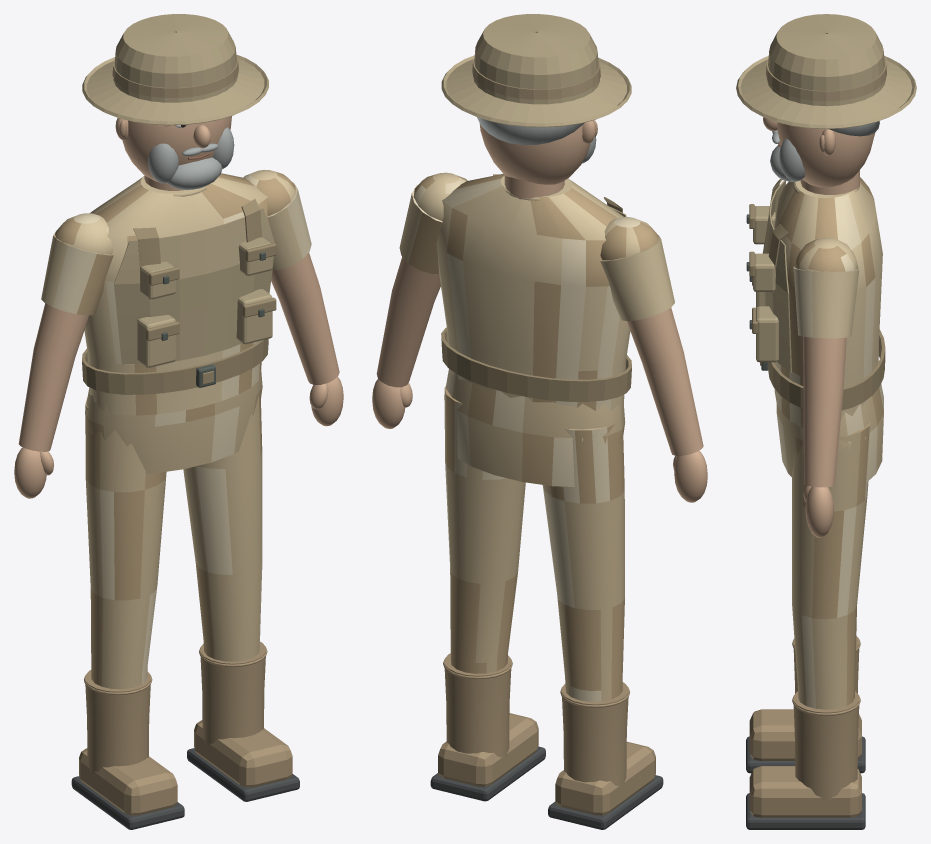
The model's file is soldier_desert_3.glb.
The picture shows the model from 3 angles, left to right: view 1: azimuth 30°, elevation 25°; view 2: azimuth 150°, elevation 25°; view 3: azimuth 270°, elevation 25°; orthographic projection.
Visible parts, largest first — view 1: Desert_Soldier_3_Trouser_Leg, Desert_Soldier_3_Trouser_Leg.001, Desert_Soldier_3_Torso_And_Main_Clothes, Desert_Soldier_3_Fitted_Field_Vest, Desert_Soldier_3_Connected_Hip_Garment, Desert_Soldier_3_Desert_Boonie_Crown, Desert_Soldier_3_Desert_Boonie_Brim, Desert_Soldier_3_Arm_Skin, Desert_Soldier_3_High_Boot_Shaft, Desert_Soldier_3_High_Boot_Shaft.001, Desert_Soldier_3_Arm_Skin.001, Desert_Soldier_3_Shoe_Upper (+20 smaller); view 2: Desert_Soldier_3_Torso_And_Main_Clothes, Desert_Soldier_3_Trouser_Leg, Desert_Soldier_3_Trouser_Leg.001, Desert_Soldier_3_Connected_Hip_Garment, Desert_Soldier_3_Desert_Boonie_Crown, Desert_Soldier_3_Desert_Boonie_Brim, Desert_Soldier_3_Arm_Skin, Desert_Soldier_3_High_Boot_Shaft, Desert_Soldier_3_High_Boot_Shaft.001, Desert_Soldier_3_Arm_Skin.001, Desert_Soldier_3_Waist_Belt, Desert_Soldier_3_Short_Sleeve (+13 smaller); view 3: Desert_Soldier_3_Trouser_Leg.001, Desert_Soldier_3_Torso_And_Main_Clothes, Desert_Soldier_3_Desert_Boonie_Crown, Desert_Soldier_3_Desert_Boonie_Brim, Desert_Soldier_3_Arm_Skin.001, Desert_Soldier_3_High_Boot_Shaft.001, Desert_Soldier_3_Shoe_Upper.001, Desert_Soldier_3_Short_Sleeve.001, Desert_Soldier_3_Head, Desert_Soldier_3_Connected_Hip_Garment, Desert_Soldier_3_Shoe_Upper, Desert_Soldier_3_Fitted_Field_Vest (+13 smaller).
Boxes of the visible parts, left/top/right/bottom form: Desert_Soldier_3_Trouser_Leg: left=85, top=397, right=166, bottom=689; Desert_Soldier_3_Trouser_Leg.001: left=183, top=395, right=262, bottom=661; Desert_Soldier_3_Torso_And_Main_Clothes: left=84, top=173, right=272, bottom=415; Desert_Soldier_3_Fitted_Field_Vest: left=114, top=208, right=274, bottom=364; Desert_Soldier_3_Connected_Hip_Garment: left=85, top=369, right=262, bottom=473; Desert_Soldier_3_Desert_Boonie_Crown: left=113, top=14, right=237, bottom=102; Desert_Soldier_3_Desert_Boonie_Brim: left=82, top=54, right=268, bottom=125; Desert_Soldier_3_Arm_Skin: left=18, top=303, right=89, bottom=451; Desert_Soldier_3_High_Boot_Shaft: left=85, top=670, right=150, bottom=773; Desert_Soldier_3_High_Boot_Shaft.001: left=200, top=641, right=265, bottom=745; Desert_Soldier_3_Arm_Skin.001: left=271, top=253, right=339, bottom=384; Desert_Soldier_3_Shoe_Upper: left=79, top=748, right=177, bottom=815; Desert_Soldier_3_Torso_And_Main_Clothes: left=436, top=173, right=630, bottom=411; Desert_Soldier_3_Trouser_Leg: left=542, top=424, right=624, bottom=701; Desert_Soldier_3_Trouser_Leg.001: left=444, top=386, right=525, bottom=673; Desert_Soldier_3_Connected_Hip_Garment: left=444, top=369, right=625, bottom=486; Desert_Soldier_3_Desert_Boonie_Crown: left=473, top=14, right=599, bottom=104; Desert_Soldier_3_Desert_Boonie_Brim: left=441, top=55, right=631, bottom=127; Desert_Soldier_3_Arm_Skin: left=626, top=307, right=703, bottom=455; Desert_Soldier_3_High_Boot_Shaft: left=561, top=682, right=628, bottom=787; Desert_Soldier_3_High_Boot_Shaft.001: left=444, top=653, right=511, bottom=759; Desert_Soldier_3_Arm_Skin.001: left=376, top=257, right=440, bottom=387; Desert_Soldier_3_Waist_Belt: left=441, top=327, right=631, bottom=401; Desert_Soldier_3_Short_Sleeve: left=600, top=235, right=674, bottom=321; Desert_Soldier_3_Trouser_Leg.001: left=792, top=422, right=871, bottom=709; Desert_Soldier_3_Torso_And_Main_Clothes: left=774, top=177, right=882, bottom=427; Desert_Soldier_3_Desert_Boonie_Crown: left=767, top=14, right=885, bottom=106; Desert_Soldier_3_Desert_Boonie_Brim: left=736, top=56, right=916, bottom=129; Desert_Soldier_3_Arm_Skin.001: left=803, top=336, right=846, bottom=487; Desert_Soldier_3_High_Boot_Shaft.001: left=793, top=691, right=859, bottom=800; Desert_Soldier_3_Shoe_Upper.001: left=749, top=766, right=861, bottom=817; Desert_Soldier_3_Short_Sleeve.001: left=793, top=266, right=859, bottom=338; Desert_Soldier_3_Head: left=777, top=122, right=874, bottom=187; Desert_Soldier_3_Connected_Hip_Garment: left=776, top=384, right=883, bottom=482; Desert_Soldier_3_Shoe_Upper: left=749, top=709, right=861, bottom=760; Desert_Soldier_3_Fitted_Field_Vest: left=762, top=180, right=791, bottom=372.
Bounding box in the file's own units: 0.8284 × 1.82 × 0.3948.
